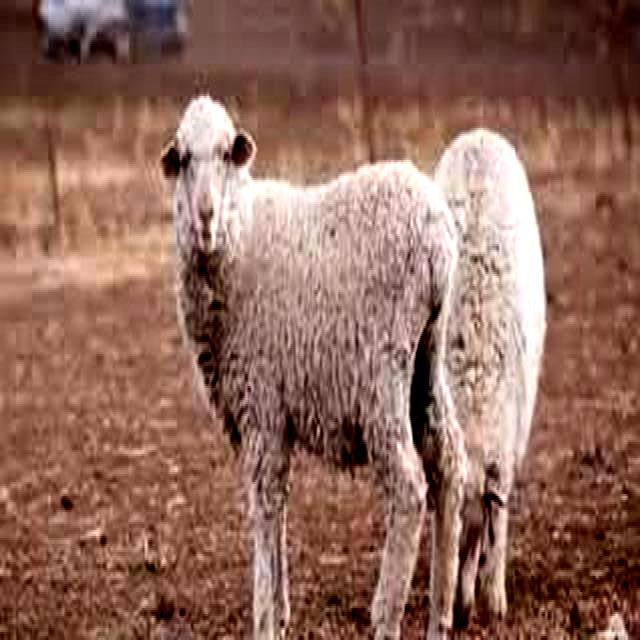sheep: (162, 89, 461, 640), (435, 128, 545, 630)
